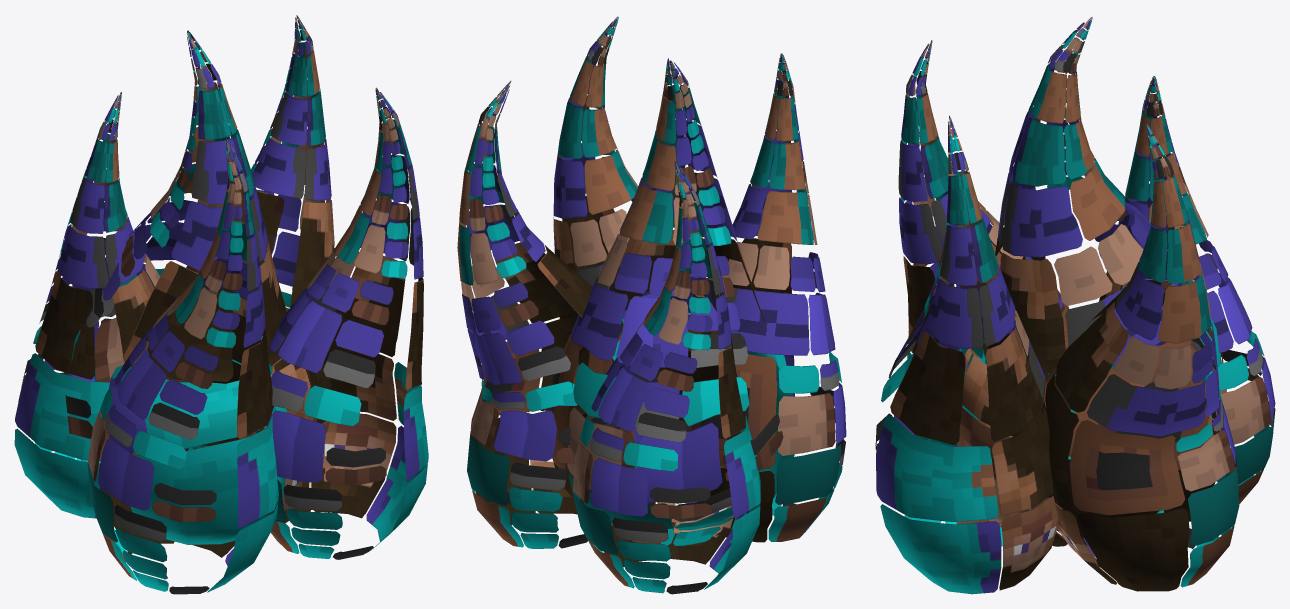
3 renders of one model, left to right at view 1: azimuth 30°, elevation 25°; view 2: azimuth 150°, elevation 25°; view 3: azimuth 270°, elevation 25°, orthographic. The views are drawn at different scales.
Visible parts, largest first — view 1: flame_NurbsPath.015; view 2: flame_NurbsPath.015; view 3: flame_NurbsPath.015.
Boxes of the visible parts, x1,y1,x2,y2 form: flame_NurbsPath.015: (14,15,428,594); flame_NurbsPath.015: (457,16,846,594); flame_NurbsPath.015: (875,17,1275,594).
Size of the model in its own units: 0.7444 by 1.18 by 0.8122.
